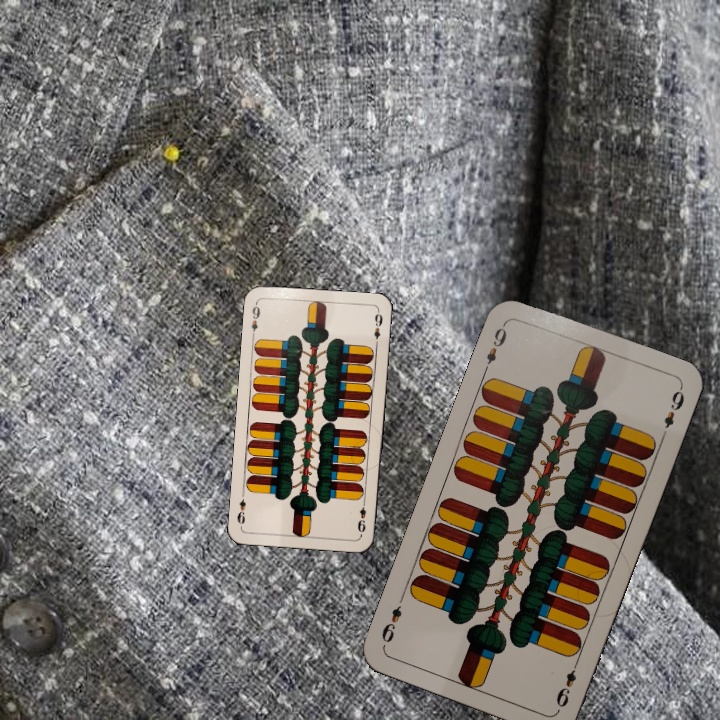E9: (552, 656, 582, 713), (480, 318, 509, 375), (247, 299, 263, 340), (353, 496, 368, 537)
